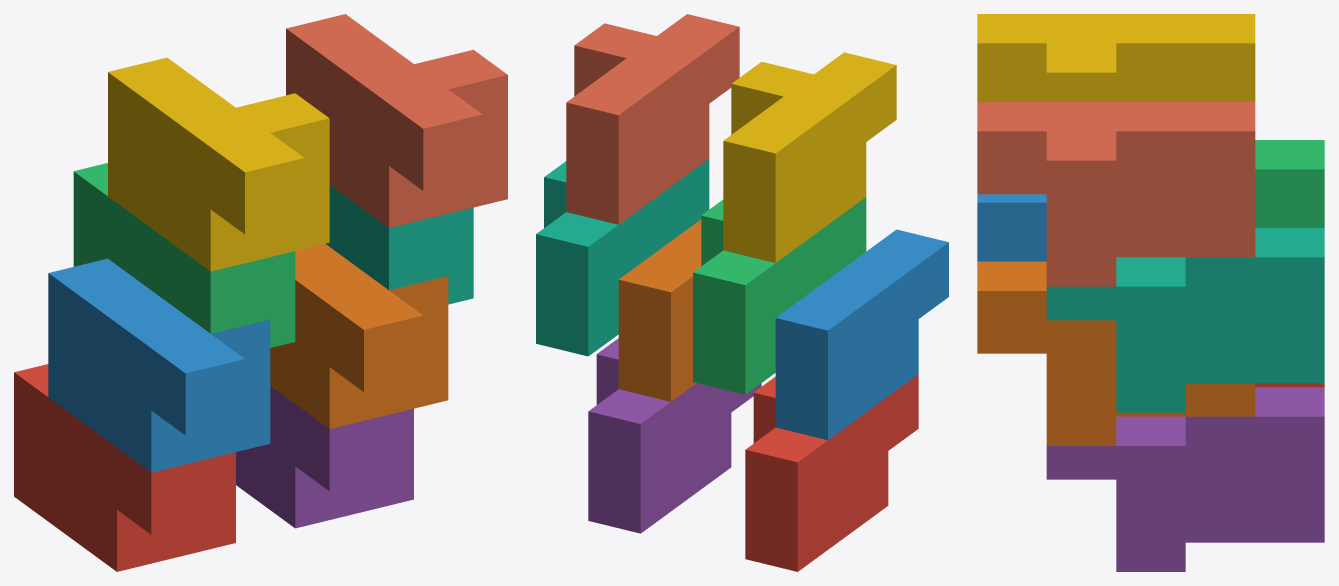
File: tiling.obj
3 views of the same model, side by side, from view 1: azimuth 30°, elevation 25°; view 2: azimuth 150°, elevation 25°; view 3: azimuth 270°, elevation 25° (orthographic). The views are drawn at different scales.
Parts seen in each view (by area): view 1: copy_1_domain_4, copy_1_domain_2, copy_1_domain_8, copy_1_domain_1, copy_1_domain_6, copy_1_domain_5, copy_1_domain_3, copy_1_domain_7; view 2: copy_1_domain_4, copy_1_domain_8, copy_1_domain_2, copy_1_domain_1, copy_1_domain_5, copy_1_domain_3, copy_1_domain_7, copy_1_domain_6; view 3: copy_1_domain_8, copy_1_domain_7, copy_1_domain_5, copy_1_domain_4, copy_1_domain_6, copy_1_domain_3, copy_1_domain_2.
Part boxes in pixels (bbox=[...]): copy_1_domain_4: bbox=[108, 57, 329, 271]; copy_1_domain_2: bbox=[48, 258, 270, 472]; copy_1_domain_8: bbox=[286, 14, 507, 227]; copy_1_domain_1: bbox=[14, 364, 235, 571]; copy_1_domain_6: bbox=[270, 244, 448, 429]; copy_1_domain_5: bbox=[236, 386, 413, 528]; copy_1_domain_3: bbox=[73, 163, 295, 347]; copy_1_domain_7: bbox=[325, 185, 473, 304]; copy_1_domain_4: bbox=[723, 52, 896, 262]; copy_1_domain_8: bbox=[566, 14, 739, 224]; copy_1_domain_2: bbox=[775, 229, 948, 440]; copy_1_domain_1: bbox=[745, 374, 918, 571]; copy_1_domain_5: bbox=[588, 338, 761, 533]; copy_1_domain_3: bbox=[693, 197, 866, 394]; copy_1_domain_7: bbox=[536, 159, 709, 356]; copy_1_domain_6: bbox=[618, 219, 701, 401]; copy_1_domain_8: bbox=[977, 102, 1255, 286]; copy_1_domain_7: bbox=[1046, 228, 1324, 412]; copy_1_domain_5: bbox=[1046, 387, 1324, 571]; copy_1_domain_4: bbox=[977, 14, 1255, 101]; copy_1_domain_6: bbox=[977, 261, 1255, 445]; copy_1_domain_3: bbox=[1255, 140, 1324, 227]; copy_1_domain_2: bbox=[977, 194, 1046, 261].
Size of the model in its own units: 6 by 7 by 5.
